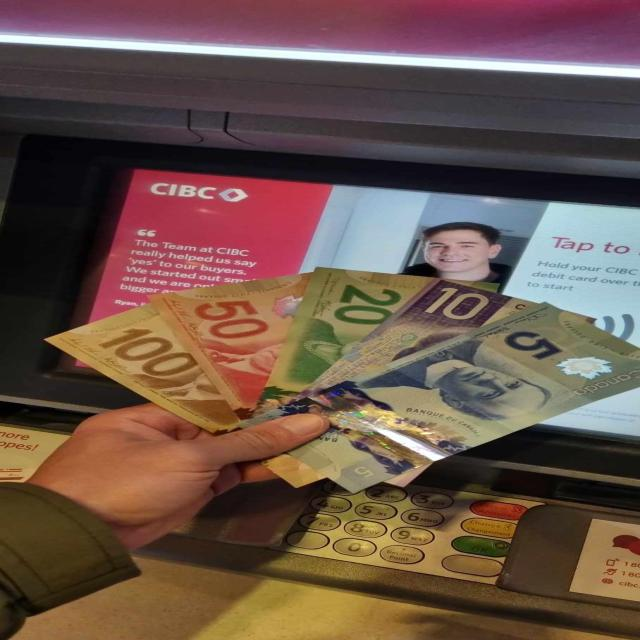10 cad: (299, 280, 542, 402)
100 cad: (43, 303, 244, 435)
20 cad: (251, 267, 429, 420)
5 cad: (296, 303, 640, 471)
50 cad: (150, 270, 310, 420)
